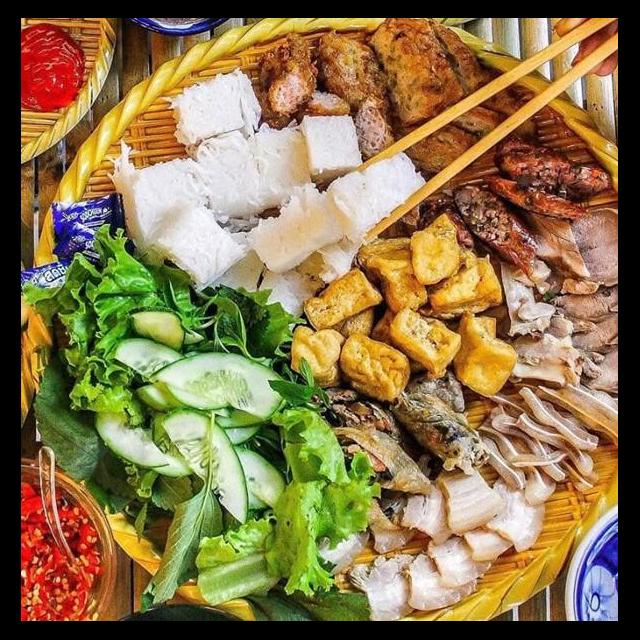bun: (104, 59, 428, 330)
bun dau: (59, 40, 618, 622)
cha com: (358, 20, 498, 134), (312, 26, 401, 162), (250, 30, 362, 134)
dau hu: (352, 205, 522, 402), (284, 235, 468, 410)
doi sun: (308, 364, 494, 500), (483, 134, 618, 226), (448, 176, 544, 280)
thit heo: (308, 462, 554, 622), (492, 196, 618, 410)
